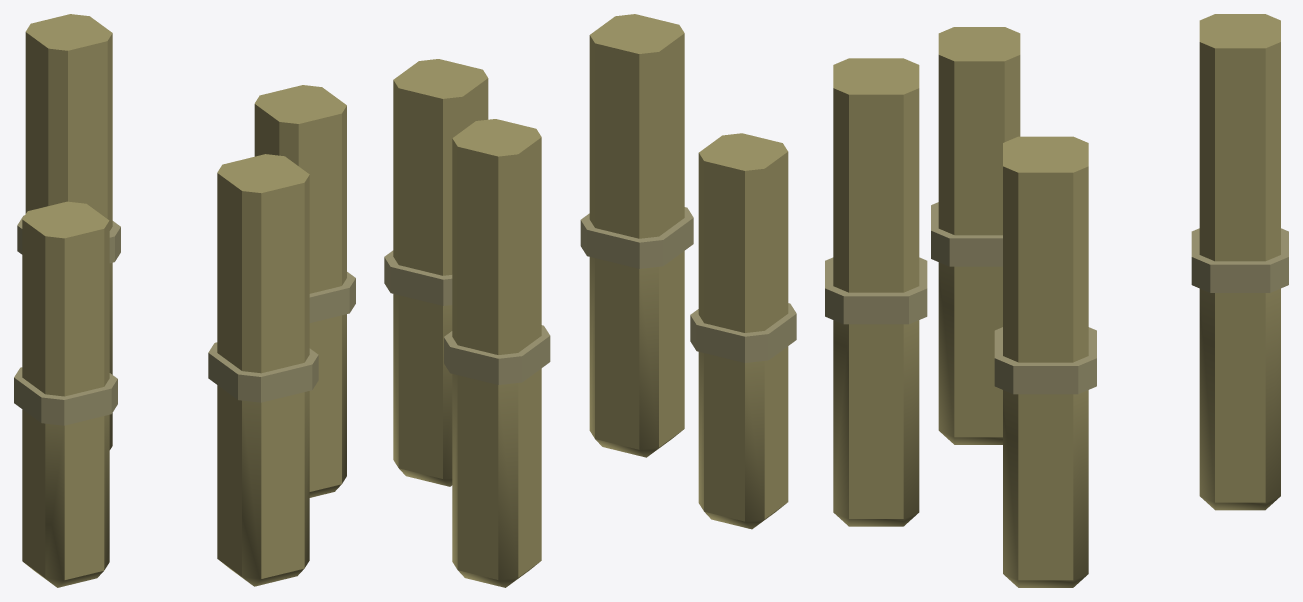
File: q-bamboo-fugtfvqgmx.glb
The picture shows the model from 3 angles, left to right: view 1: azimuth 30°, elevation 25°; view 2: azimuth 150°, elevation 25°; view 3: azimuth 270°, elevation 25°; orthographic projection. The views are drawn at different scales.
Parts seen in each view (by area): view 1: Bamboo_Small; view 2: Bamboo_Small; view 3: Bamboo_Small.
Part boxes in pixels (<box>): Bamboo_Small: <box>14,14,355,587</box>; Bamboo_Small: <box>384,14,796,587</box>; Bamboo_Small: <box>825,14,1288,587</box>.
Bounding box in the file's own units: 1.46 × 1.72 × 1.55.
1 material, 1 textured.
